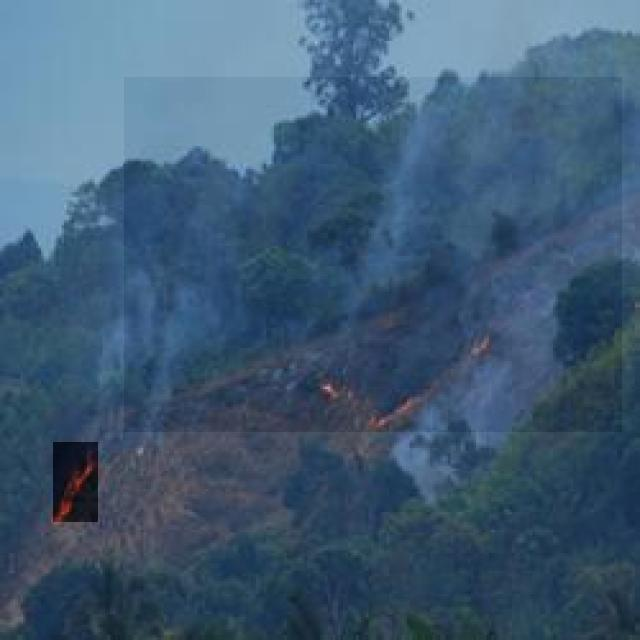Fire: (53, 442, 98, 522)
Smoke: (124, 77, 622, 432)
